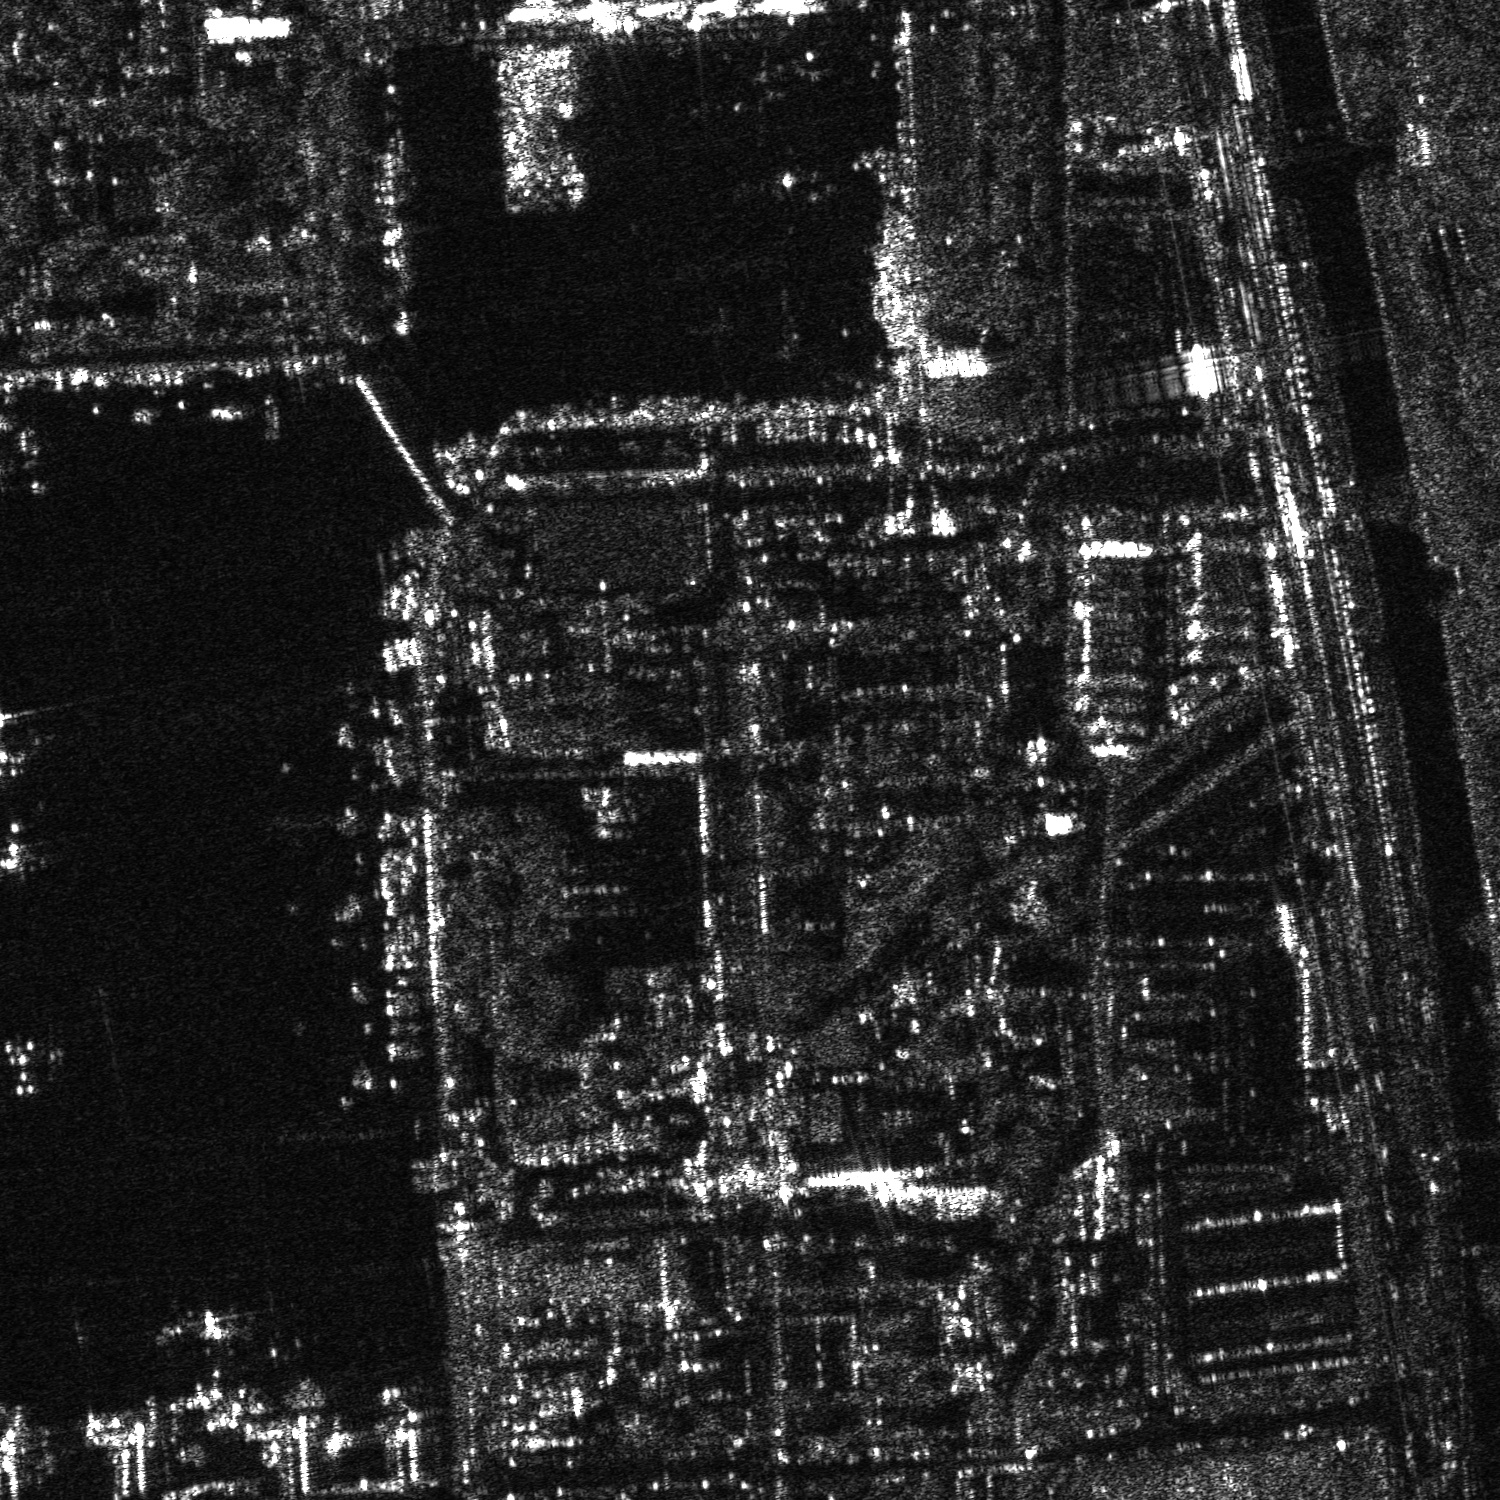A220: (1, 1029, 52, 1103)
ARJ21: (7, 413, 49, 495)
Boeing787: (163, 1295, 246, 1360)
other: (731, 38, 839, 109)
